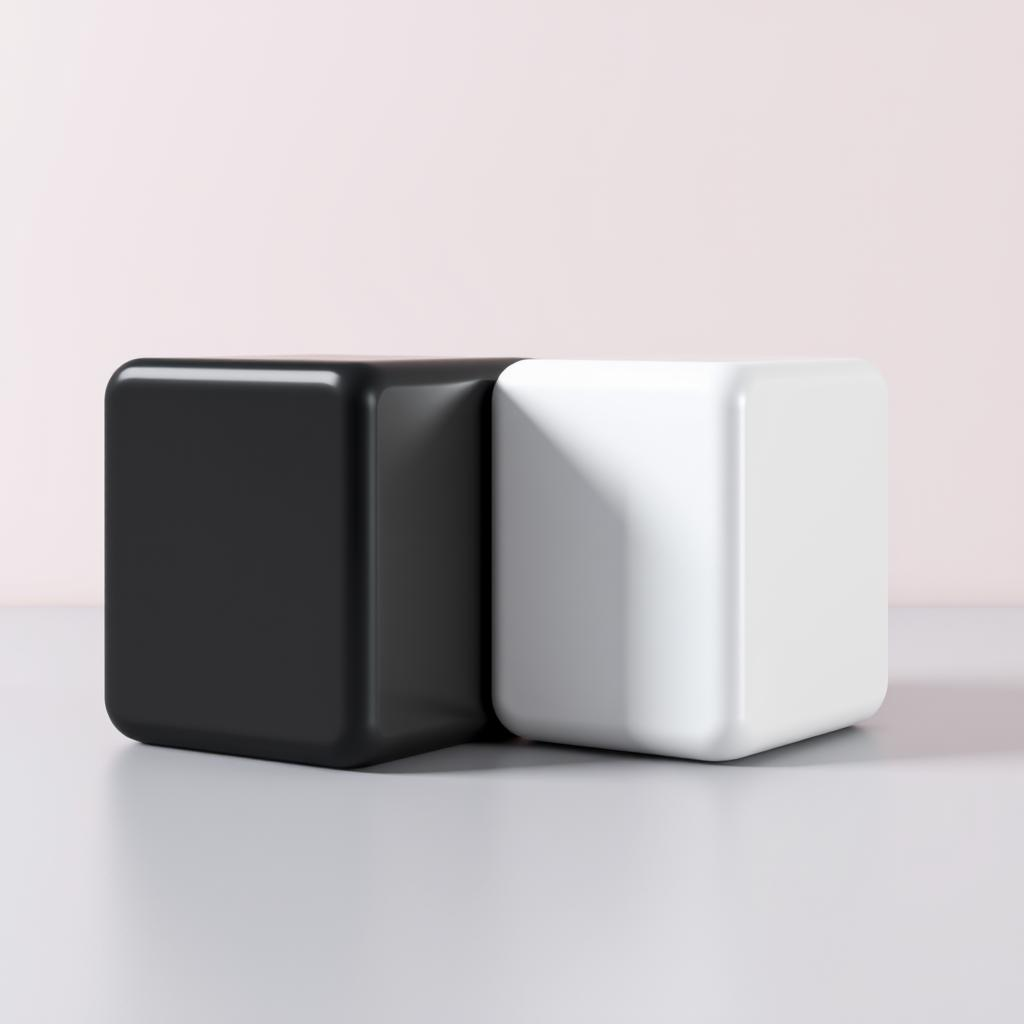cube: (102, 355, 528, 769), (489, 355, 889, 762)
